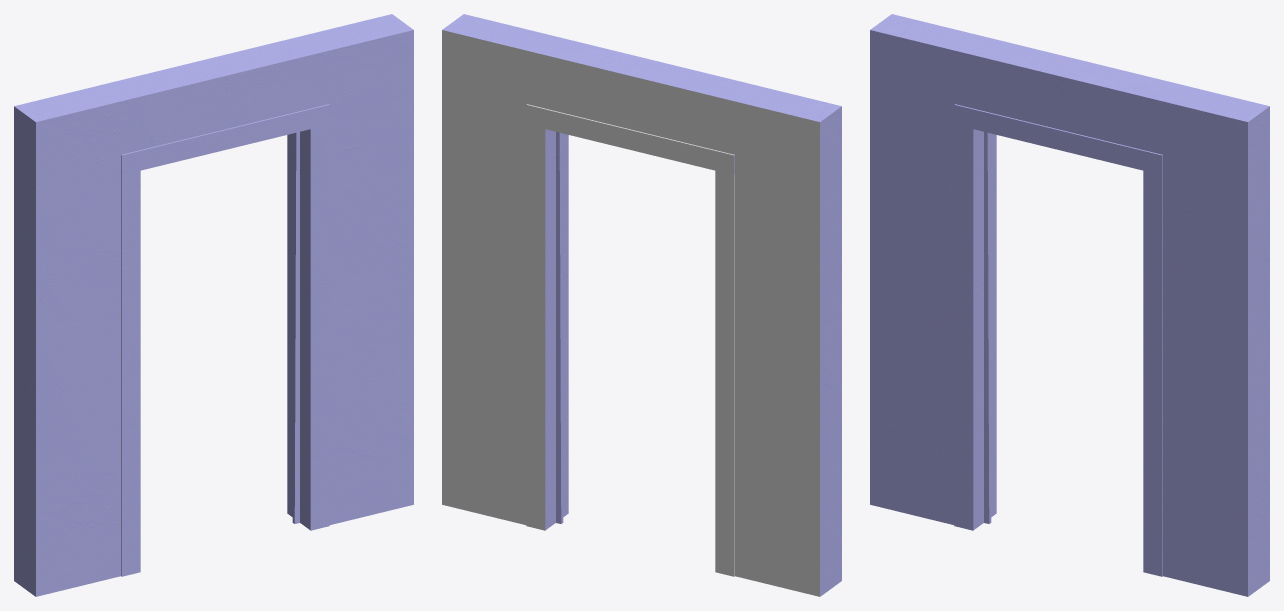
The model's file is Doorway.fbx.
3 views of the same model, side by side, from view 1: azimuth 30°, elevation 25°; view 2: azimuth 150°, elevation 25°; view 3: azimuth 330°, elevation 25° (orthographic).
Visible parts, largest first — view 1: DoorWay; view 2: DoorWay; view 3: DoorWay.
Part boxes in pixels (x1,y1,x2,y2): DoorWay: (14, 14, 413, 596); DoorWay: (442, 14, 841, 596); DoorWay: (870, 14, 1269, 596).
Bounding box in the file's own units: 200 × 240 × 21.56.
